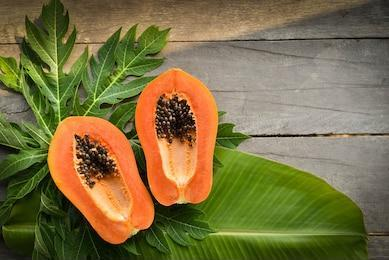papaya: (46, 115, 158, 246), (135, 70, 216, 207)
